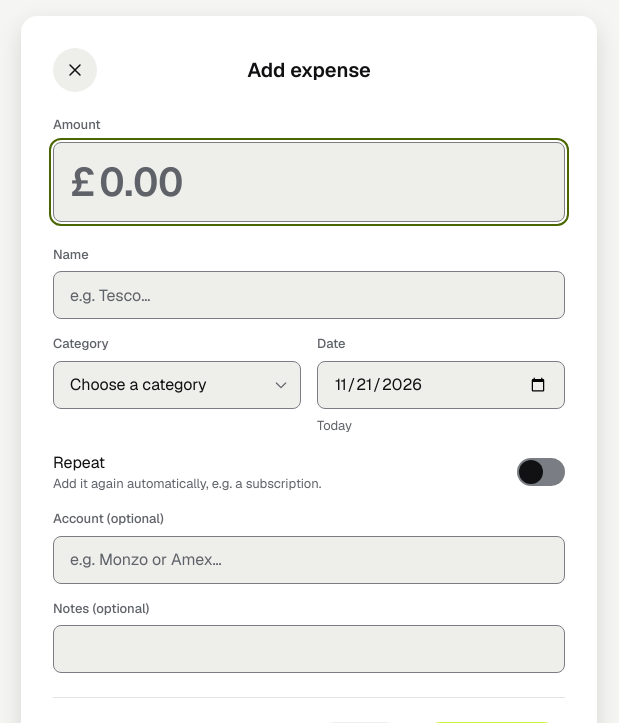
Scenario: ExpenseForm › defaults the date to today, shows "Today", and "Tomorrow" when it applies
The width and height of the screenshot is (619, 723).
Expected: the text "Today" is shown, x1=317 y1=417 x2=352 y2=434
Type "2026-11-22" into the date field labelled "Date" at (441, 385), box x1=317 y1=361 x2=565 y2=409
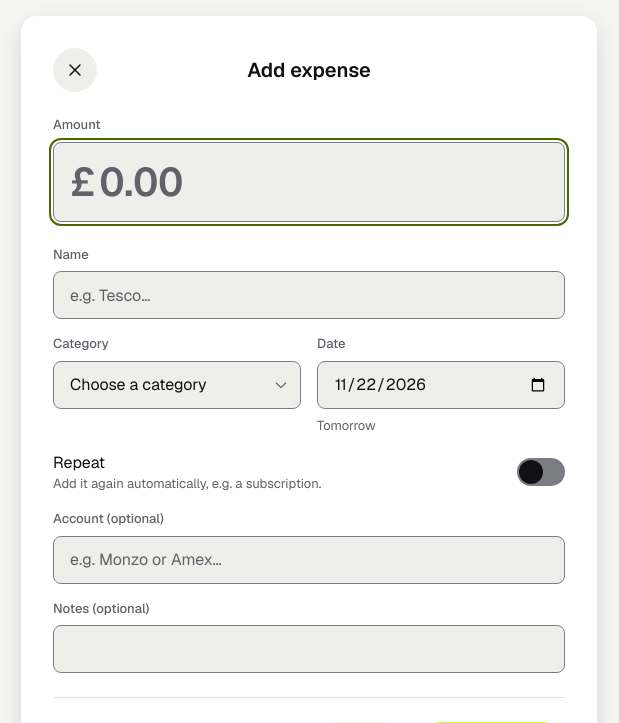
Expected: the text "Tomorrow" is shown, x1=317 y1=417 x2=376 y2=434
